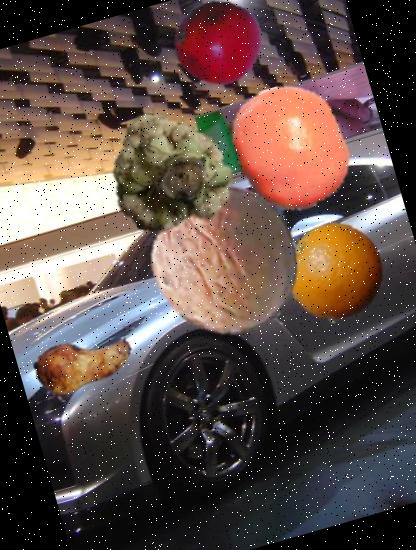Cauliflower: (95, 101, 251, 257)
Cherry: (160, 166, 306, 312)
Clementine: (212, 70, 368, 226)
Orange: (274, 211, 398, 335)
Pear: (21, 298, 146, 424)
Pomegranate: (163, 0, 271, 96)
Walnut: (134, 168, 320, 354)
